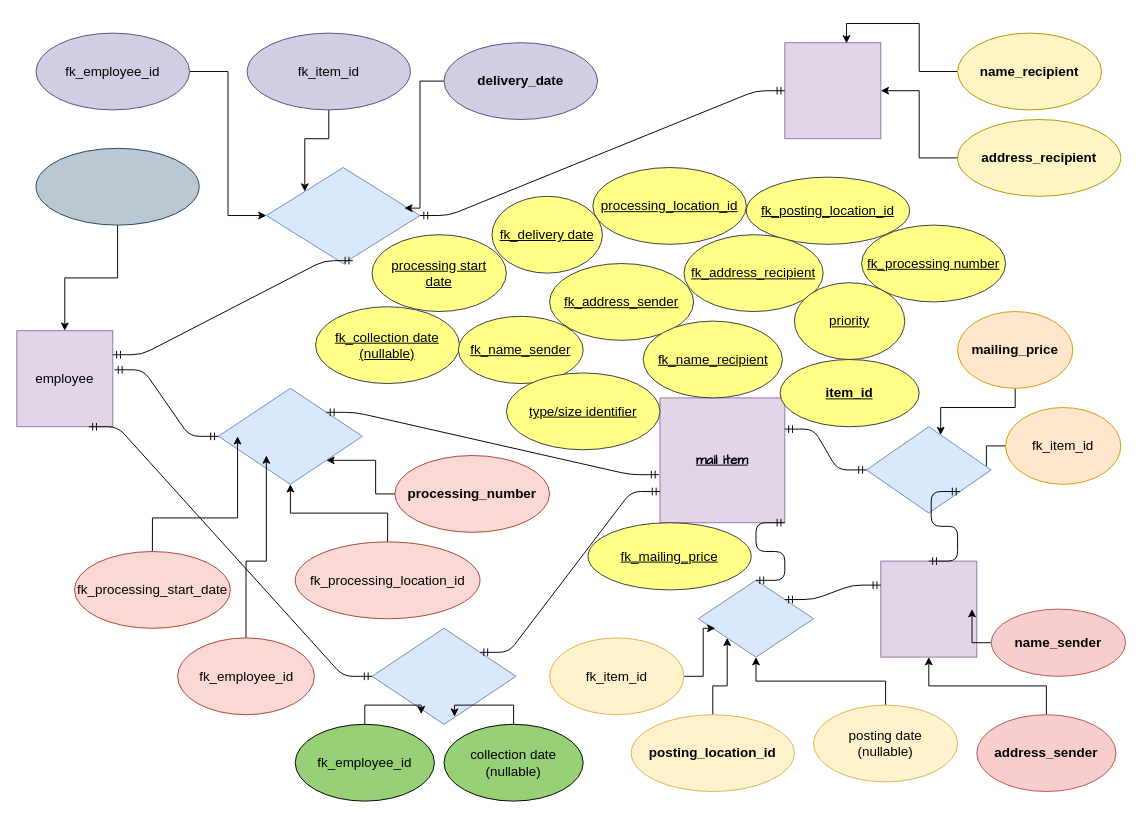
The diagram is 1142 pixels wide and 818 high, and some of its shapes have lost their labels. The shapes that lost their labels are listed below. From the top down, each one's box as (x1, y1, x2, y2) in pixels, then its label:
(784, 42, 881, 139): recipient
(35, 147, 199, 225): employee_id
(265, 167, 420, 264): delivers item to
(217, 387, 362, 484): processes
(865, 426, 991, 513): pays
(697, 579, 814, 657): posts
(880, 560, 977, 657): sender
(371, 627, 516, 724): collects
